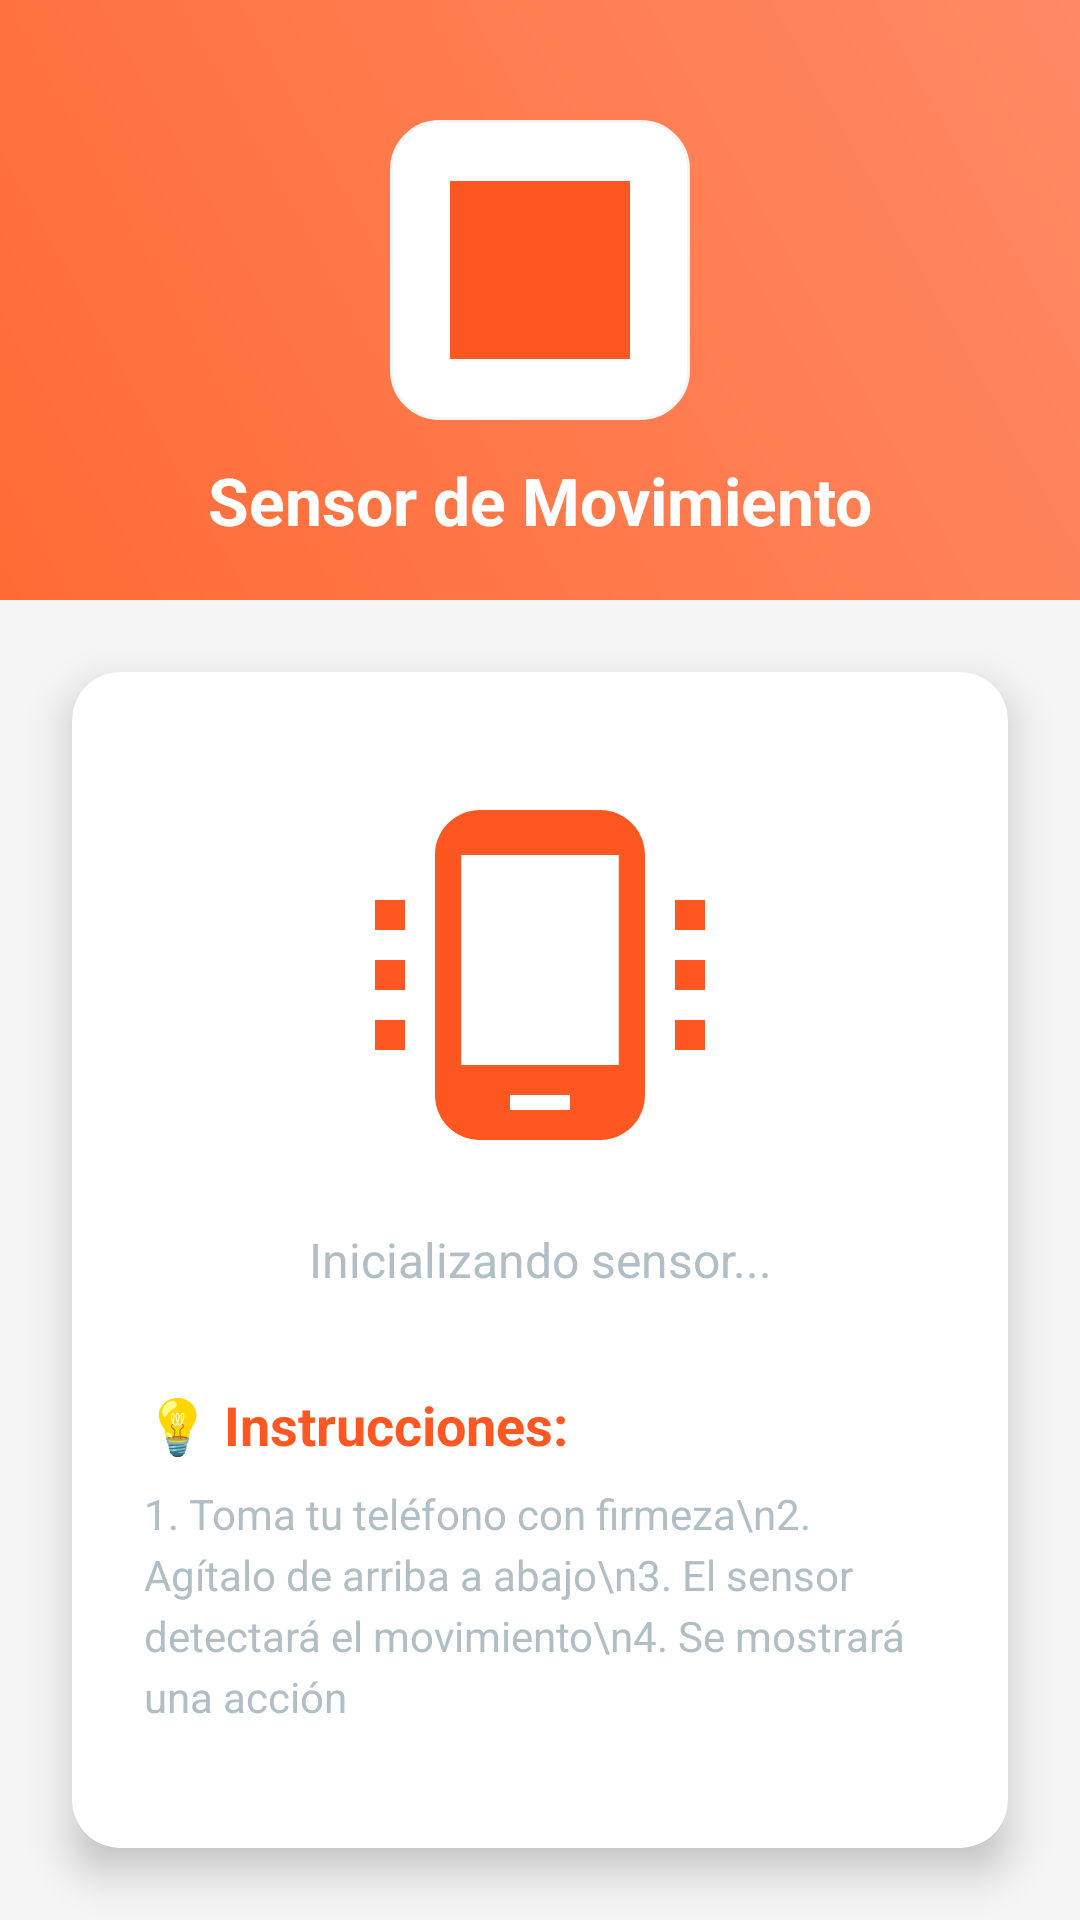

Point at icon controls on the screen. Image size 1080px x 1920px, points as [x,y].
Agitar teléfono: [540,975]
